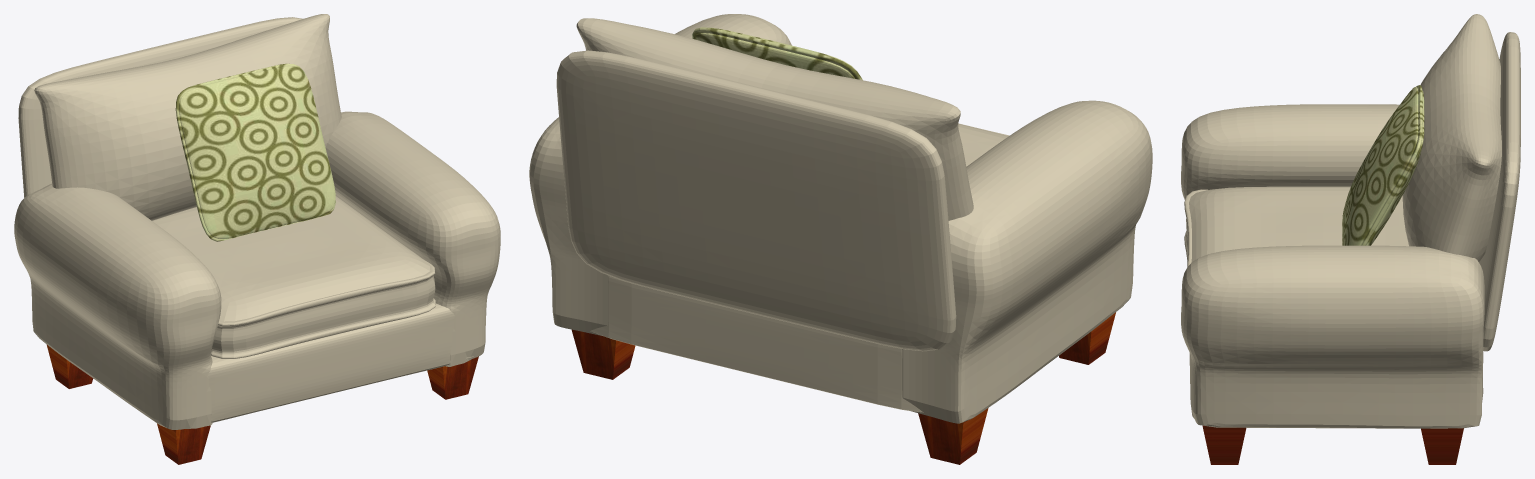
The model's file is singleChair.obj.
3 views of the same model, side by side, from view 1: azimuth 30°, elevation 25°; view 2: azimuth 150°, elevation 25°; view 3: azimuth 270°, elevation 25° (orthographic). The views are drawn at different scales.
Parts seen in each view (by area): view 1: PolyMesh_3, PolyMesh_1, PolyMesh_4, PolyMesh_2_1, PolyMesh_3_1, PolyMesh_2, PolyMesh_1_1, PolyMesh_5_1, PolyMesh_5_2, PolyMesh_5; view 2: PolyMesh_1_1, PolyMesh_3, PolyMesh_2, PolyMesh_1, PolyMesh_3_1, PolyMesh_2_1, PolyMesh_5, PolyMesh_5_3, PolyMesh_5_1, PolyMesh_4; view 3: PolyMesh_3_1, PolyMesh_1, PolyMesh_3, PolyMesh_4, PolyMesh_2_1, PolyMesh_1_1, PolyMesh_5_2, PolyMesh_5_3.
Boxes of the visible parts, box(x1,y1,x2,y2) form: PolyMesh_3: box(14, 183, 221, 429); PolyMesh_1: box(34, 14, 341, 220); PolyMesh_4: box(152, 196, 435, 358); PolyMesh_2_1: box(175, 63, 335, 241); PolyMesh_3_1: box(325, 111, 500, 366); PolyMesh_2: box(192, 303, 473, 425); PolyMesh_1_1: box(18, 17, 303, 197); PolyMesh_5_1: box(157, 423, 210, 464); PolyMesh_5_2: box(427, 356, 478, 399); PolyMesh_5: box(47, 345, 93, 388); PolyMesh_1_1: box(556, 50, 956, 351); PolyMesh_3: box(902, 100, 1152, 423); PolyMesh_2: box(590, 276, 923, 412); PolyMesh_1: box(576, 18, 973, 220); PolyMesh_3_1: box(529, 14, 791, 335); PolyMesh_2_1: box(692, 27, 862, 80); PolyMesh_5: box(918, 408, 988, 464); PolyMesh_5_3: box(571, 329, 635, 379); PolyMesh_5_1: box(1059, 312, 1115, 364); PolyMesh_4: box(958, 123, 1009, 166); PolyMesh_3_1: box(1181, 245, 1484, 428); PolyMesh_1: box(1402, 14, 1501, 261); PolyMesh_3: box(1181, 104, 1399, 199); PolyMesh_4: box(1184, 186, 1408, 266); PolyMesh_2_1: box(1342, 85, 1424, 245); PolyMesh_1_1: box(1479, 32, 1520, 351); PolyMesh_5_2: box(1202, 425, 1246, 464); PolyMesh_5_3: box(1421, 428, 1463, 464).
Size of the model in its own units: 3.32 by 2.46 by 2.53.
3 materials, 2 textured.
